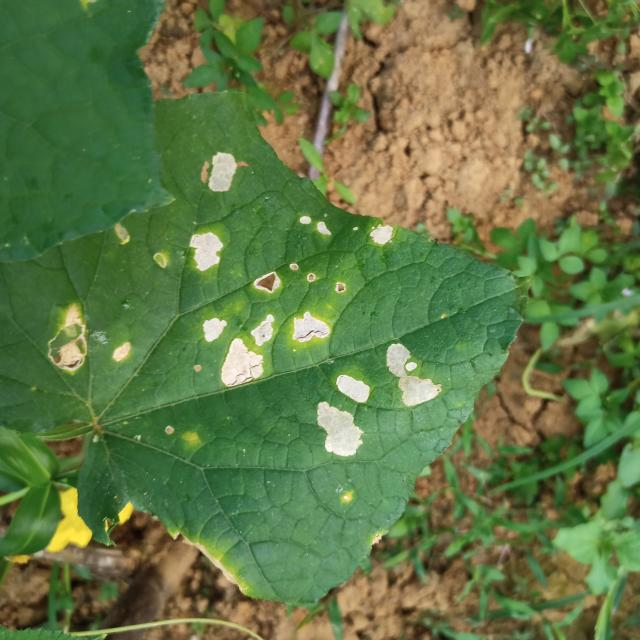disease_cucumber: (198, 271, 332, 390), (48, 302, 132, 376), (312, 371, 373, 459), (384, 341, 444, 408), (187, 230, 225, 275), (206, 150, 236, 196), (297, 213, 334, 241), (367, 220, 395, 248)
